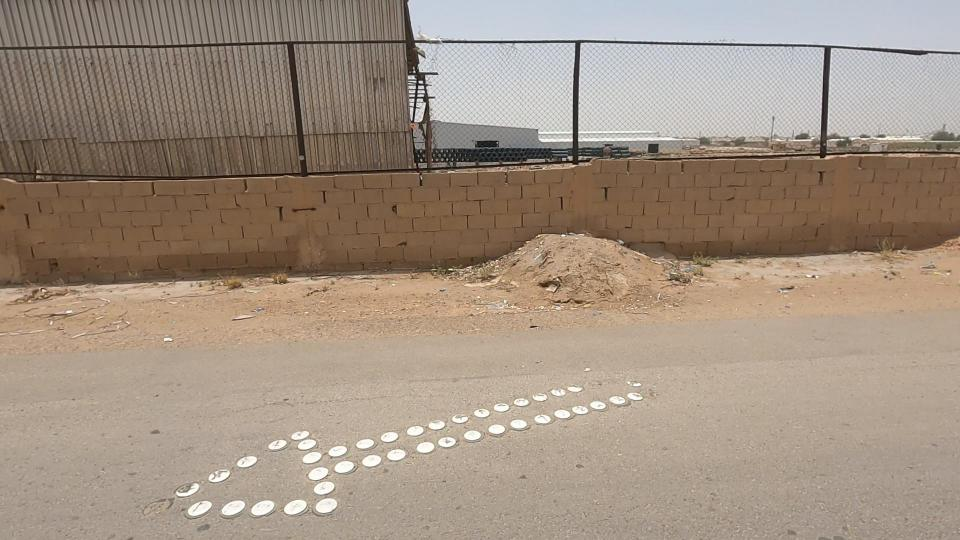GARBAGE: (0, 275, 188, 374), (626, 234, 749, 305), (448, 246, 537, 343), (181, 291, 300, 349), (745, 264, 826, 313)
